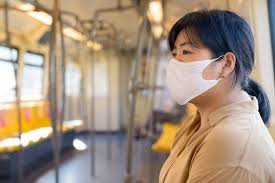with-mask: (161, 14, 255, 108)
